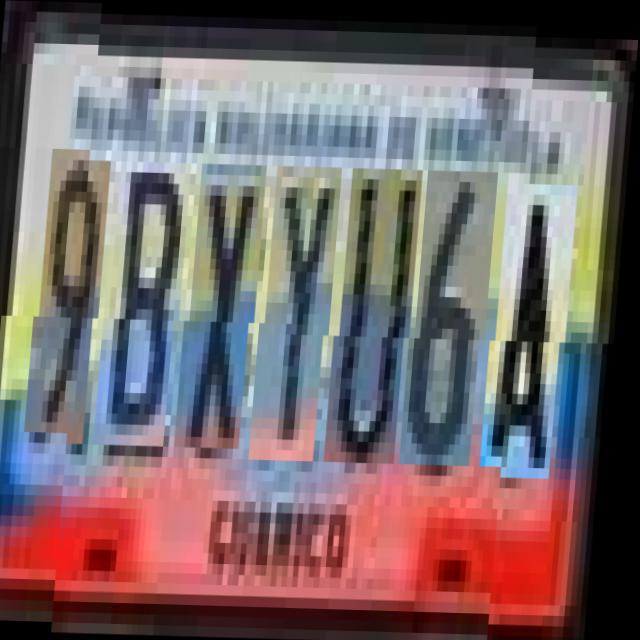6: (412, 168, 501, 464)
9: (36, 158, 114, 444)
A: (492, 170, 582, 466)
B: (106, 160, 195, 446)
U: (336, 166, 426, 462)
X: (187, 162, 270, 448)
Y: (262, 164, 344, 460)
